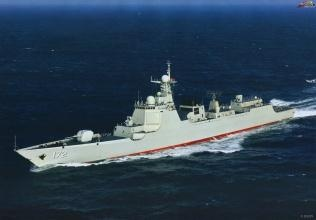warship: (10, 68, 298, 170)
